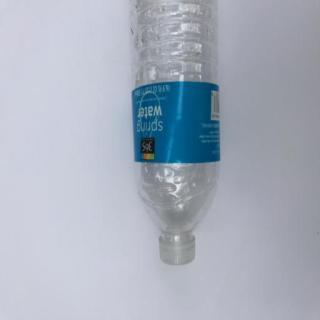Plastic-bottle: (128, 1, 223, 267)
